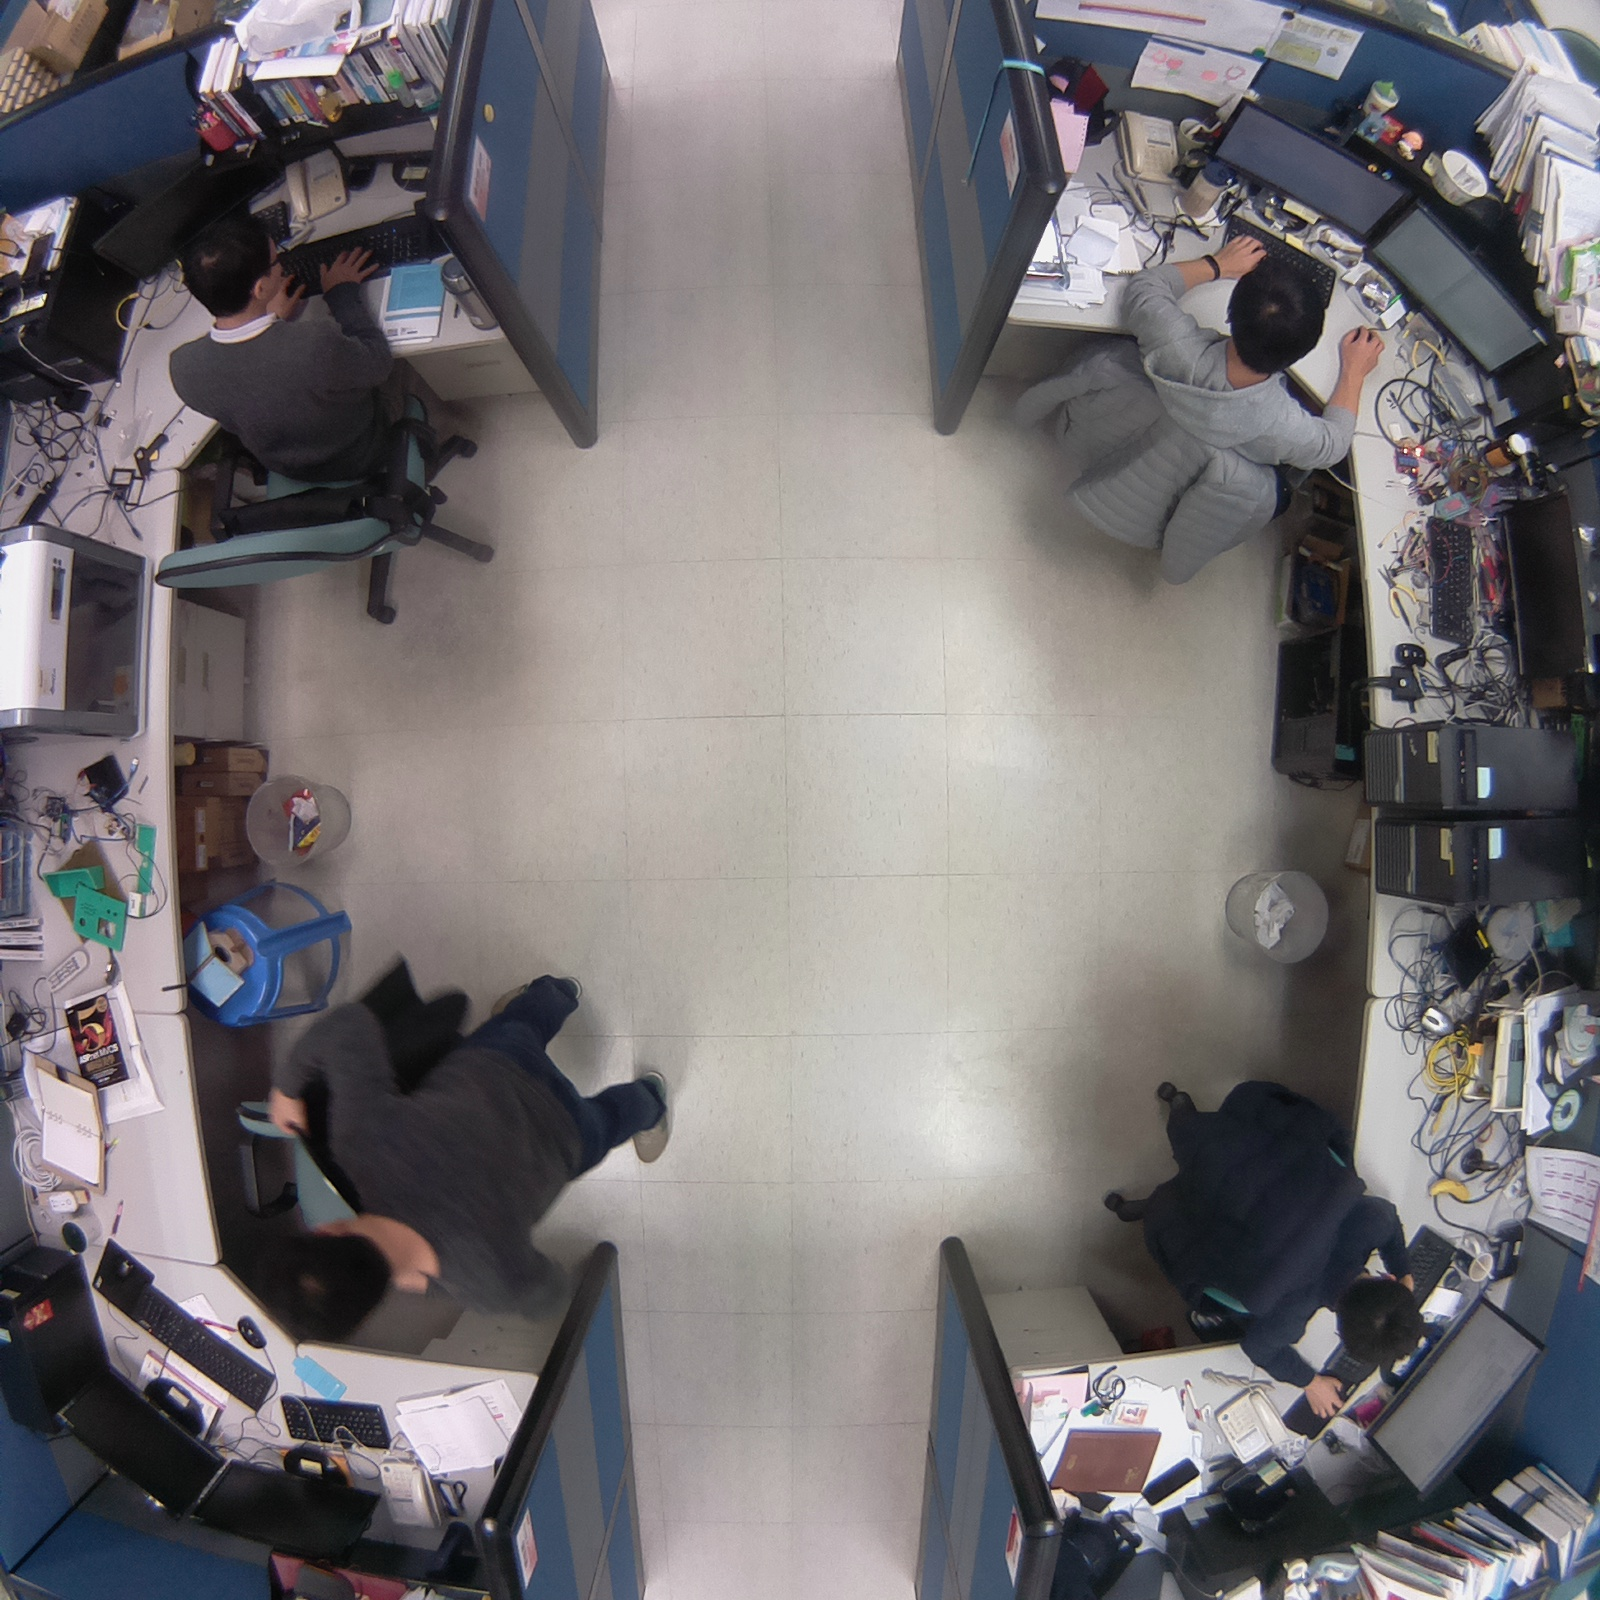head: (253, 1217, 400, 1346), (1221, 248, 1336, 372), (176, 208, 289, 321), (1327, 1274, 1432, 1374)
sitting: (140, 206, 529, 655), (970, 237, 1390, 611), (1091, 1058, 1431, 1429)
standing: (244, 960, 681, 1357)
